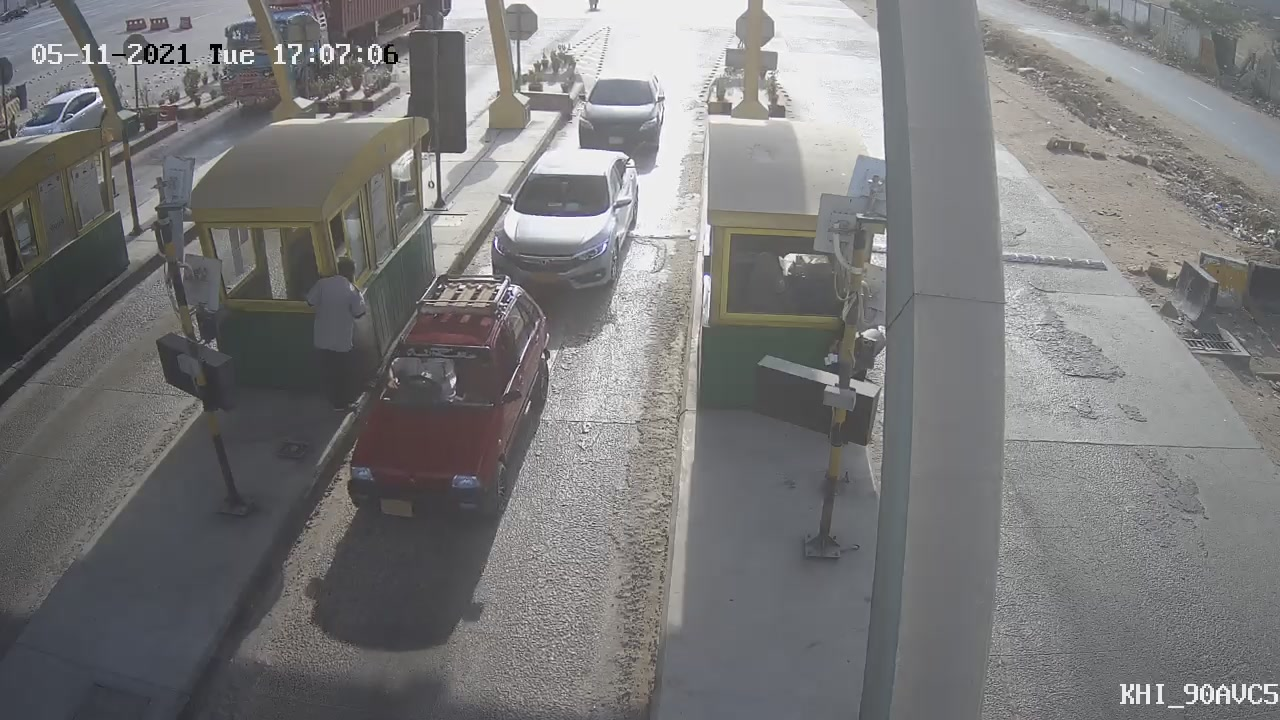F1: (320, 256, 577, 539), (472, 129, 663, 316), (560, 57, 682, 161)
